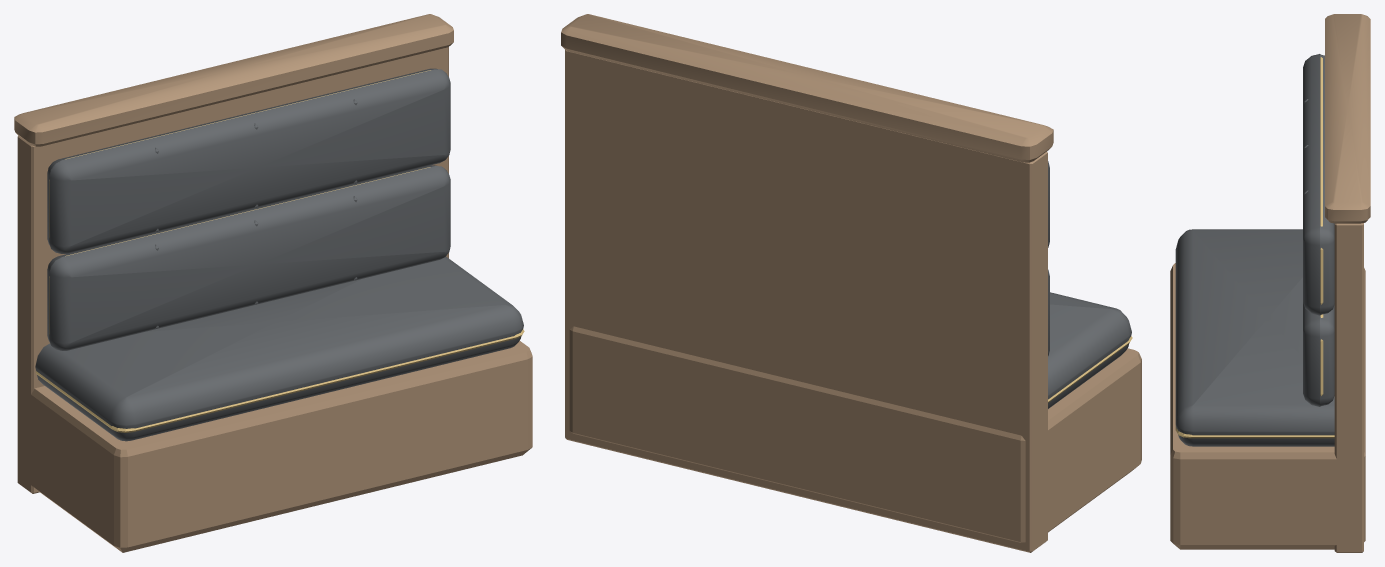
File: restaurant-kitchen-and-dining-banquette-bench-1400-dar-76a98b16__16510.glb
3 renders of one model, left to right at view 1: azimuth 30°, elevation 25°; view 2: azimuth 150°, elevation 25°; view 3: azimuth 270°, elevation 25°, orthographic. The views are drawn at different scales.
Visible parts, largest first — view 1: banquette-bench-1400-dark; view 2: banquette-bench-1400-dark; view 3: banquette-bench-1400-dark.
Part boxes in pixels (x1,y1,x2,y2): banquette-bench-1400-dark: (14, 14, 532, 552); banquette-bench-1400-dark: (561, 14, 1141, 552); banquette-bench-1400-dark: (1170, 14, 1370, 552).
Size of the model in its own units: 1.42 by 1.18 by 0.6151.
